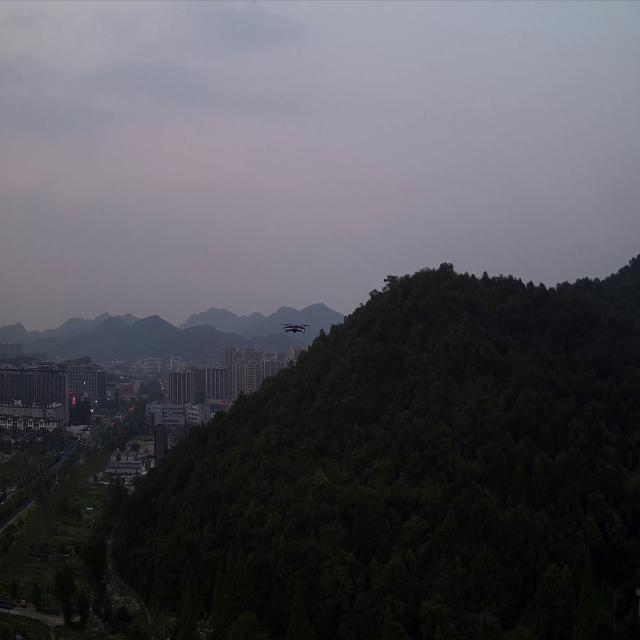UAV: (284, 321, 306, 336)
